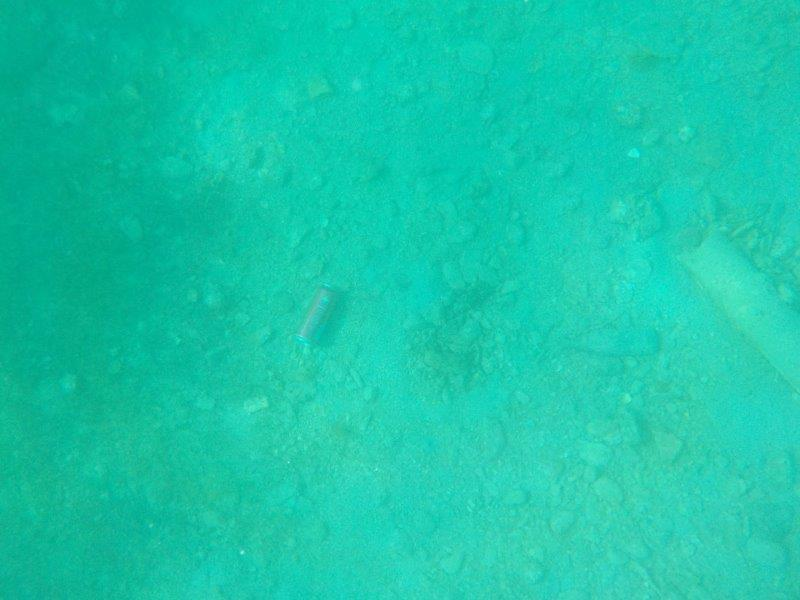bottle: (550, 318, 669, 363)
